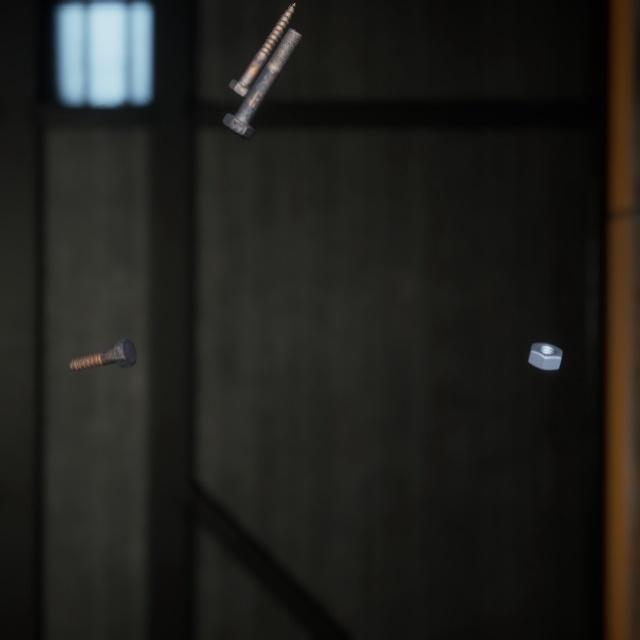bolt: (218, 12, 306, 131), (223, 0, 298, 92), (65, 315, 141, 357)
nut: (523, 319, 567, 355)
